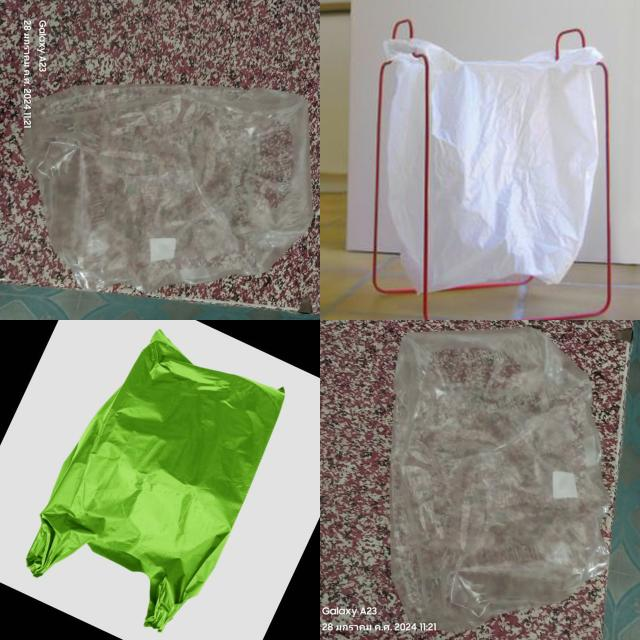Single-layer Plastic: (26, 330, 285, 631), (391, 328, 609, 630), (22, 85, 312, 292), (384, 39, 602, 291)
